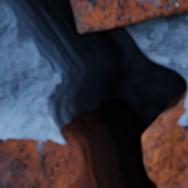brick: (71, 0, 187, 33)
broken_brick: (142, 88, 187, 187), (0, 138, 84, 187)
crack: (0, 0, 187, 187)
